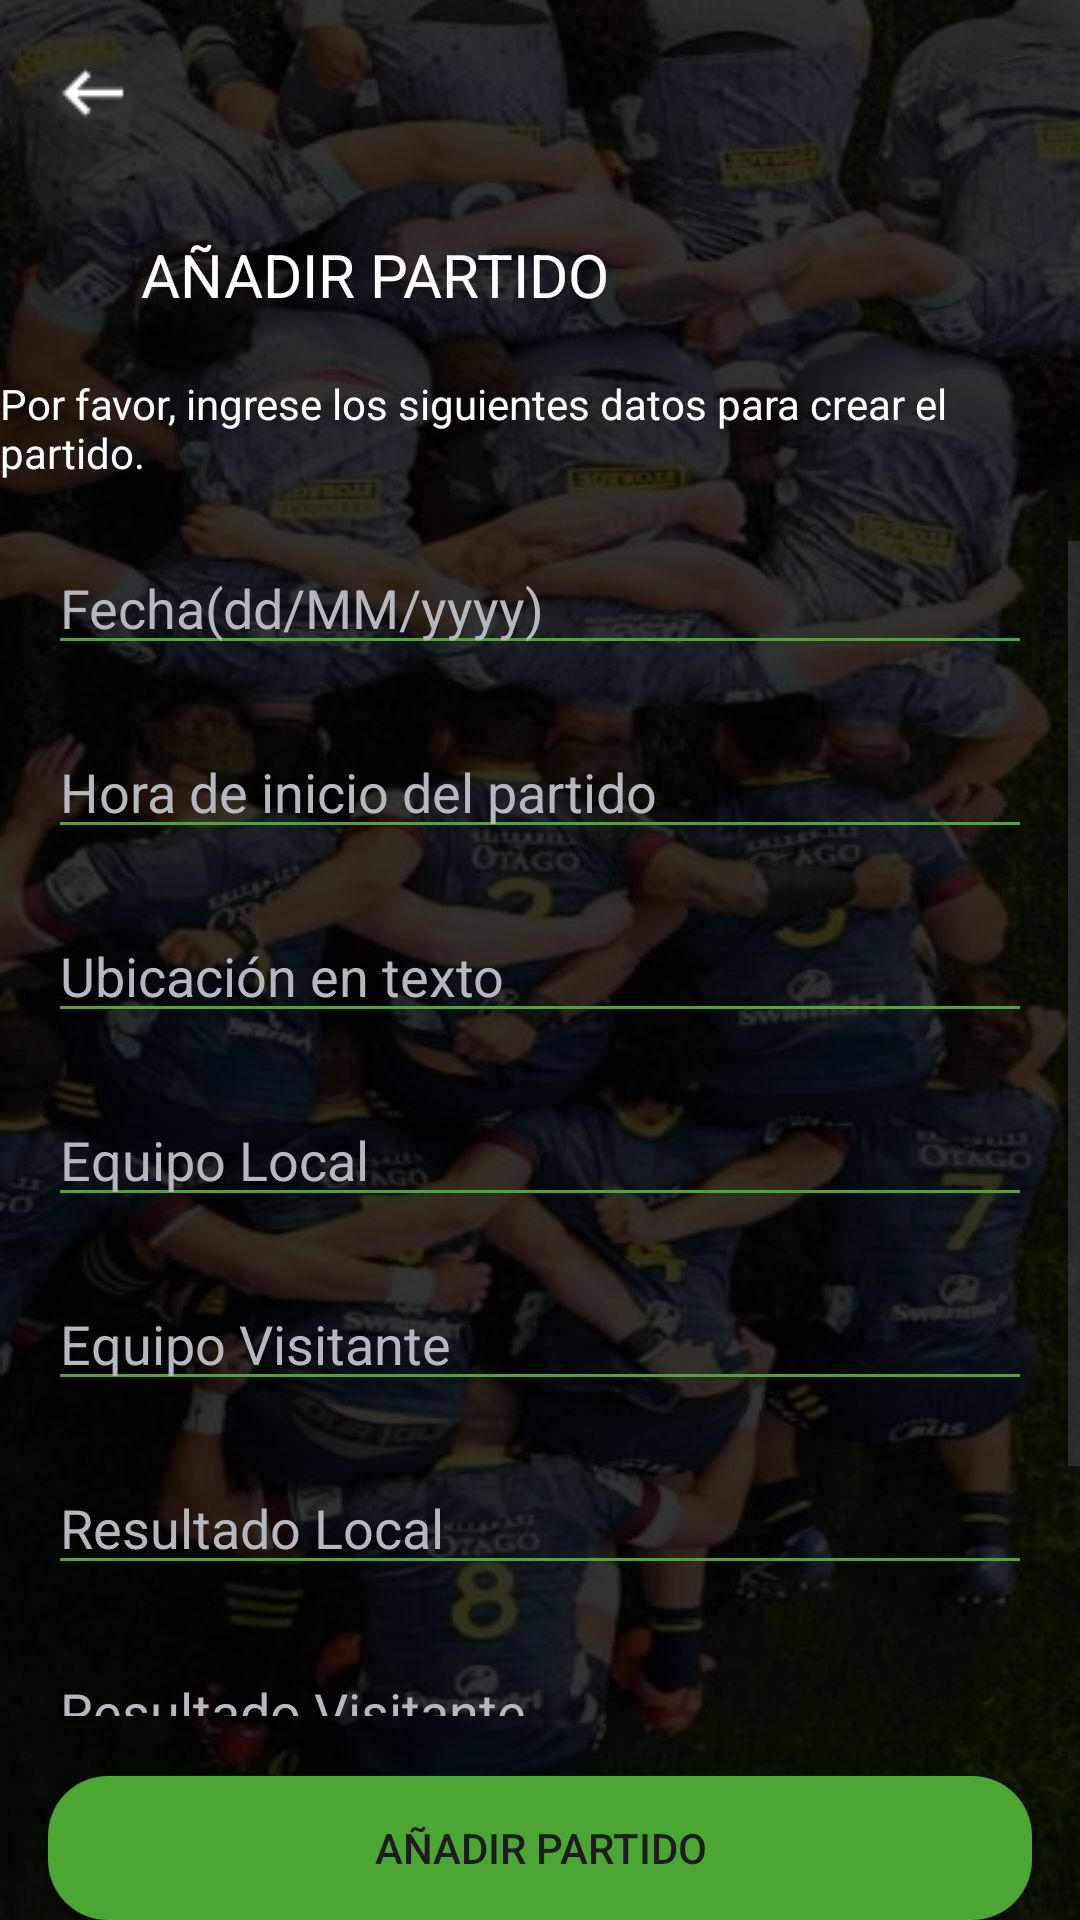

Point at icon controls on the screen. Image size 1080*1920, points as [x,y].
short left: [93,93]
